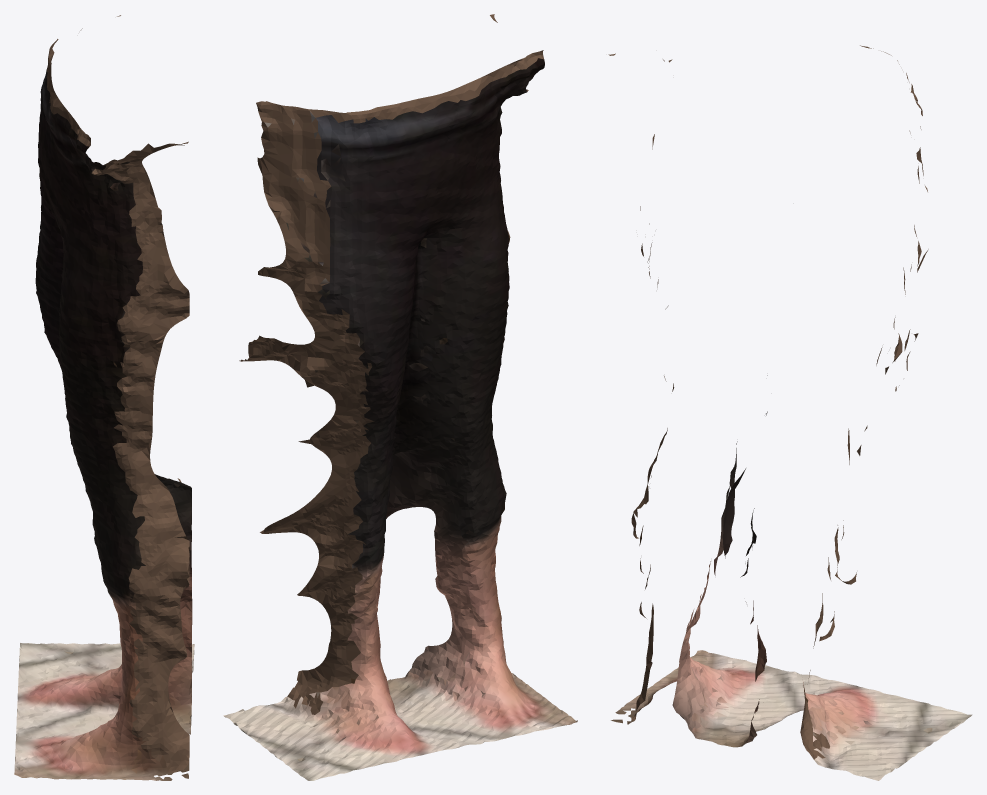
The picture shows the model from 3 angles, left to right: view 1: azimuth 30°, elevation 25°; view 2: azimuth 150°, elevation 25°; view 3: azimuth 270°, elevation 25°; orthographic projection. The views are drawn at different scales.
Bounding box in the file's own units: 0.4103 × 0.9461 × 0.4713.
Materials: 1 (1 with a texture image).
